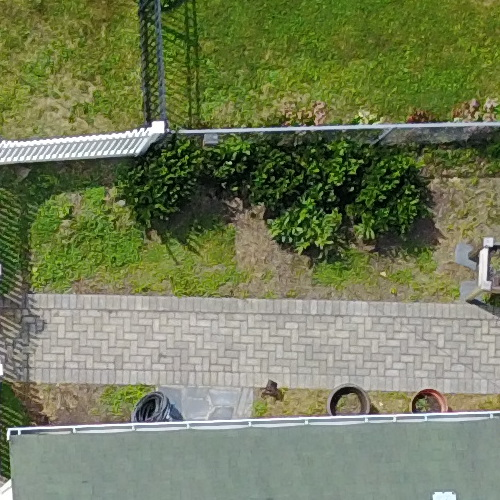container: (320, 378, 377, 421), (408, 385, 456, 423)
